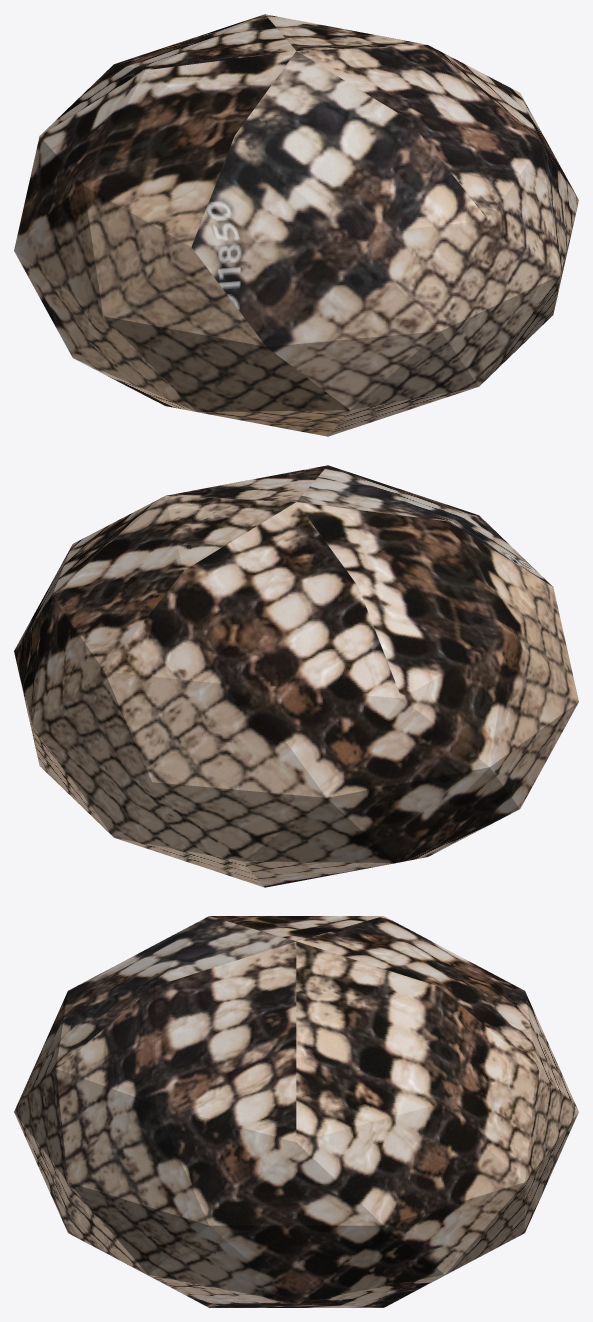
File: body.gltf
3 renders of one model, top to bottom at view 1: azimuth 30°, elevation 25°; view 2: azimuth 150°, elevation 25°; view 3: azimuth 270°, elevation 25°, orthographic. The views are drawn at different scales.
Parts seen in each view (by area): view 1: bodypart; view 2: bodypart; view 3: bodypart.
Boxes of the visible parts, left/top/right/bottom form: bodypart: left=14, top=14, right=578, bottom=436; bodypart: left=14, top=465, right=578, bottom=887; bodypart: left=14, top=916, right=578, bottom=1307.
Bounding box in the file's own units: 2.85 × 2 × 3.
1 material, 1 textured.
